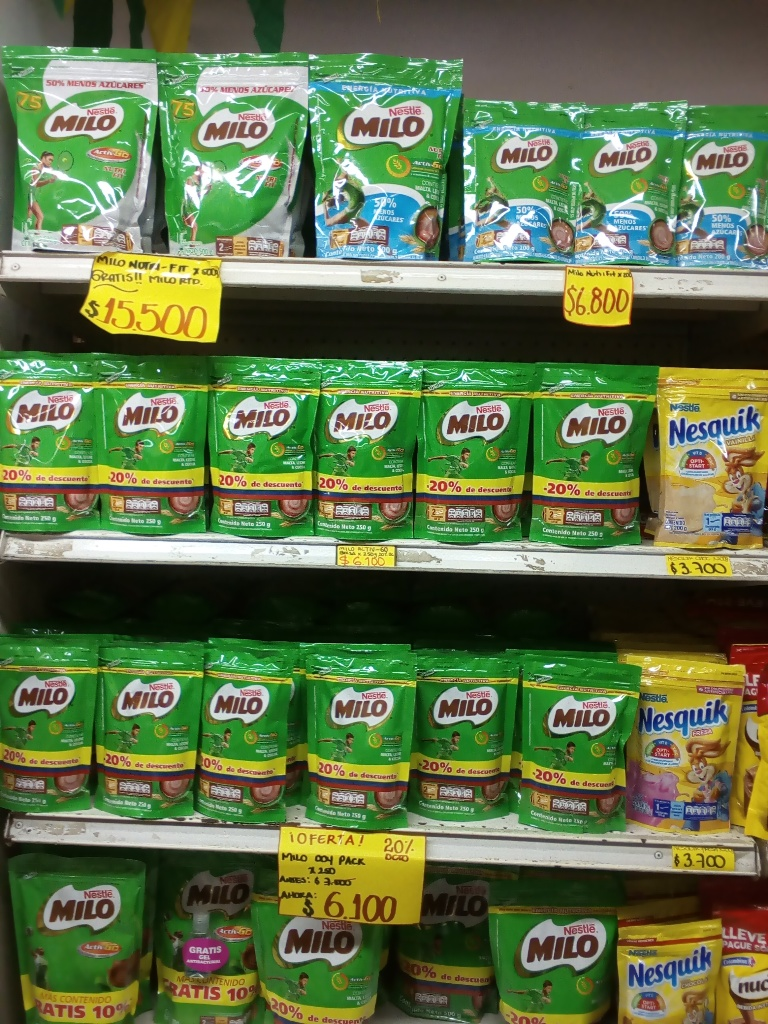COL0170203DYP25000: (0, 356, 112, 535)
COL0170203DYP50000: (399, 861, 524, 1023)
COL0170205DYP20000: (461, 96, 572, 261)
COL0170205DYP50000: (6, 49, 158, 256)
COL0170305DYP20000: (624, 650, 743, 836)
COL0170306DYP20000: (657, 364, 766, 550)
